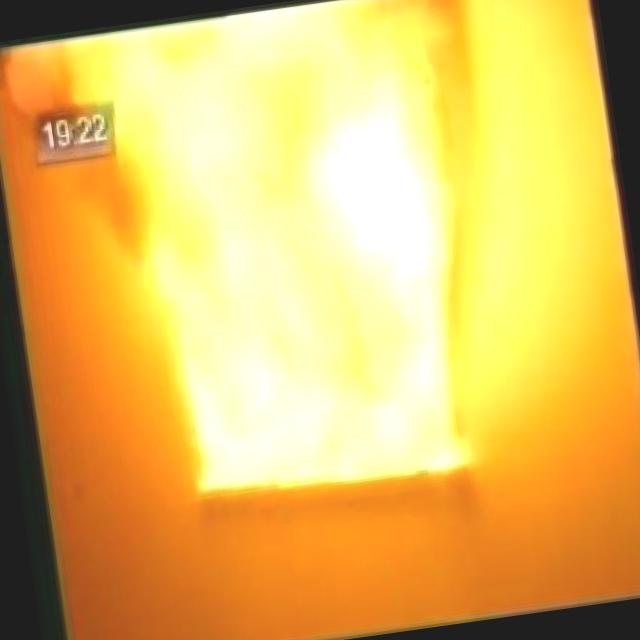fire: (21, 0, 569, 564)
